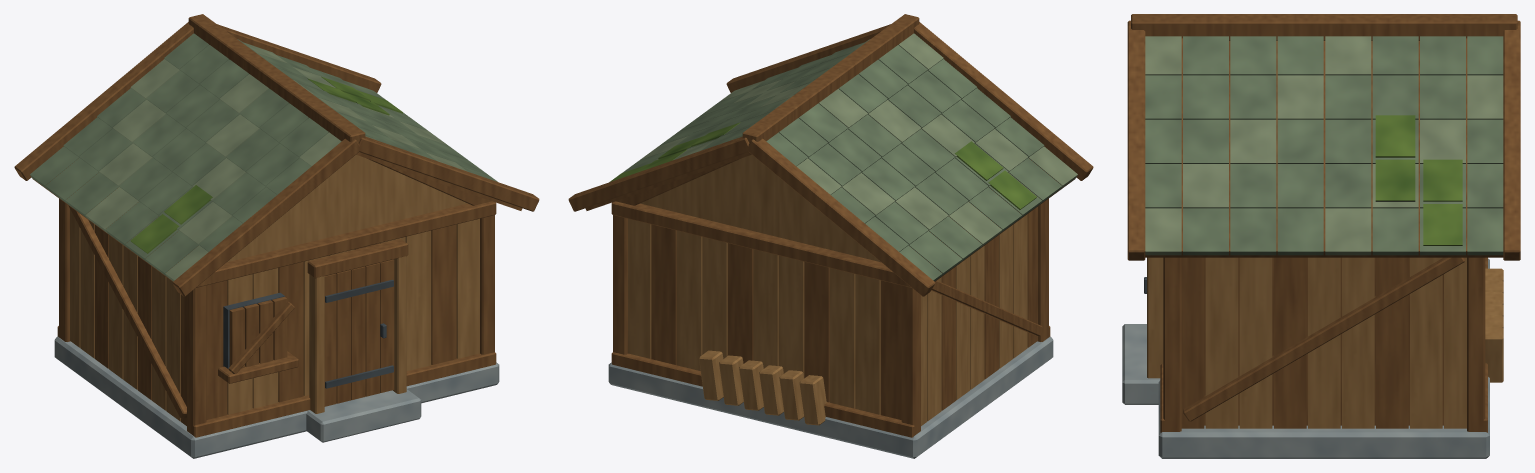
File: hunter_cabin.glb
3 renders of one model, left to right at view 1: azimuth 30°, elevation 25°; view 2: azimuth 150°, elevation 25°; view 3: azimuth 270°, elevation 25°, orthographic. The views are drawn at different scales.
Visible parts, largest first — view 1: hunter_cabin_Mesh; view 2: hunter_cabin_Mesh; view 3: hunter_cabin_Mesh.
Boxes of the visible parts, <box> form: hunter_cabin_Mesh: <box>14,14,539,458</box>; hunter_cabin_Mesh: <box>568,14,1093,458</box>; hunter_cabin_Mesh: <box>1122,14,1520,458</box>.
Bounding box in the file's own units: 5.38 × 4.23 × 4.33.
1 material, 1 textured.
